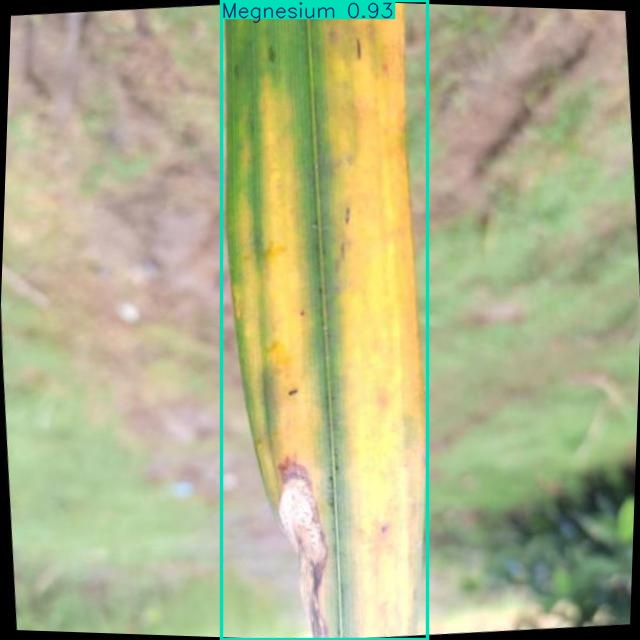Megnesium: (222, 0, 427, 640)
